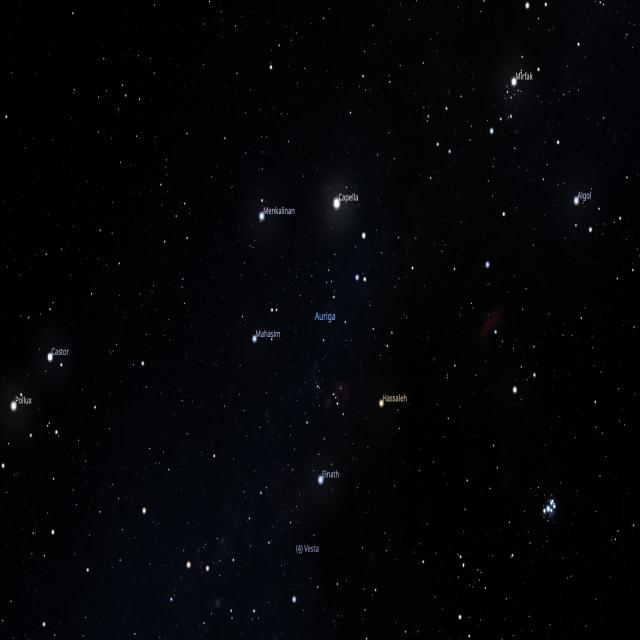Auriga: (246, 194, 390, 486)
